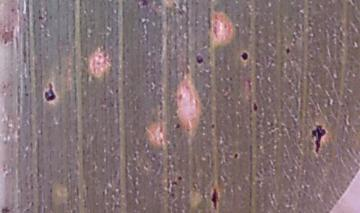tarspot: (309, 122, 329, 158), (39, 80, 59, 105), (209, 187, 222, 210), (237, 48, 252, 64), (136, 1, 157, 12), (249, 100, 263, 116), (193, 53, 205, 68), (172, 119, 184, 133), (1, 201, 13, 213), (282, 45, 293, 58), (207, 121, 217, 131), (174, 173, 185, 182), (232, 151, 240, 160)
